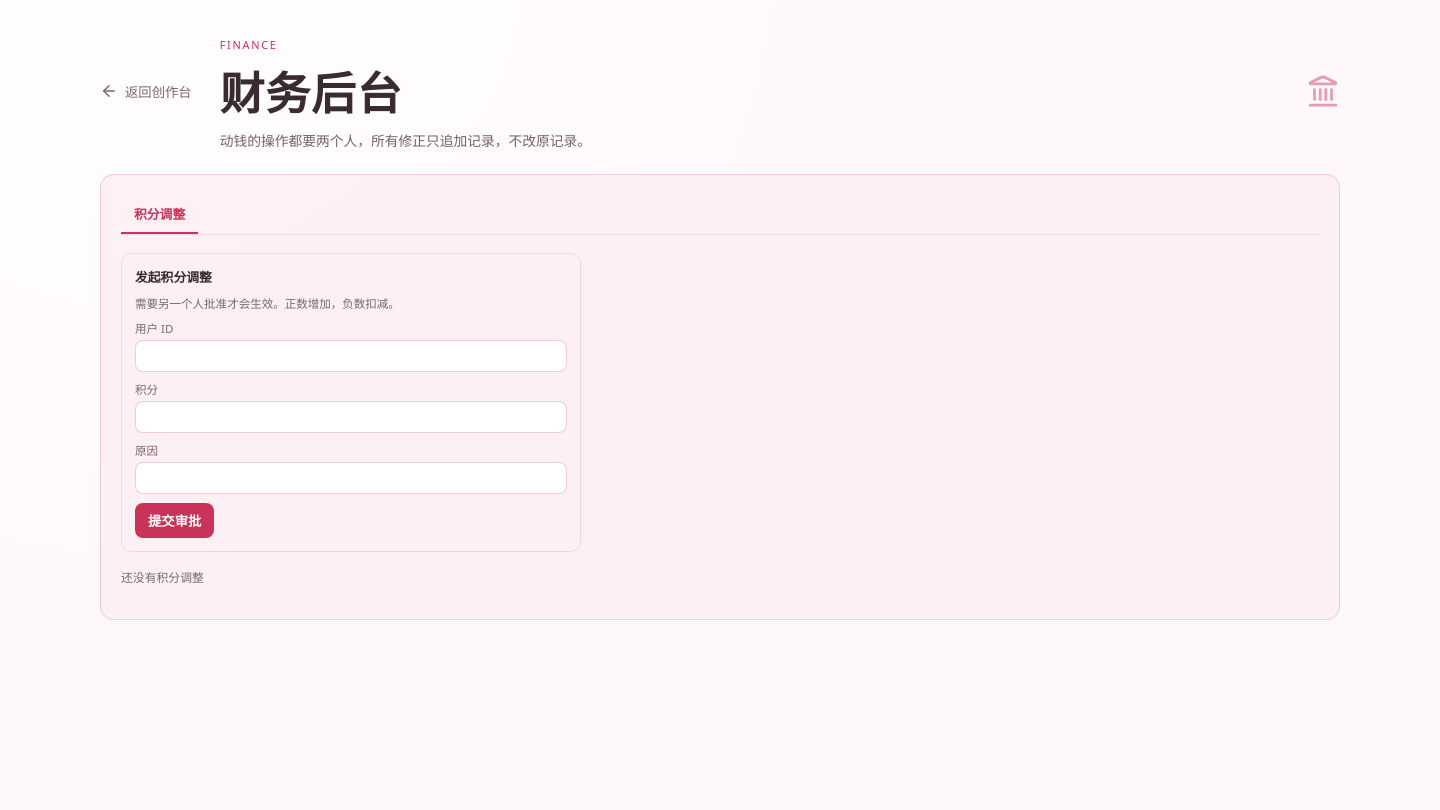
FinanceConsolePage › files a points adjustment once however often it is clicked, and keeps the form when filing fails
This screenshot has width=1440, height=810.
Expected: the text "还没有积分调整" is shown, [121,569,204,585]
In the field labelled "用户 ID": (351, 356) [135,340,567,372], type "nobody"
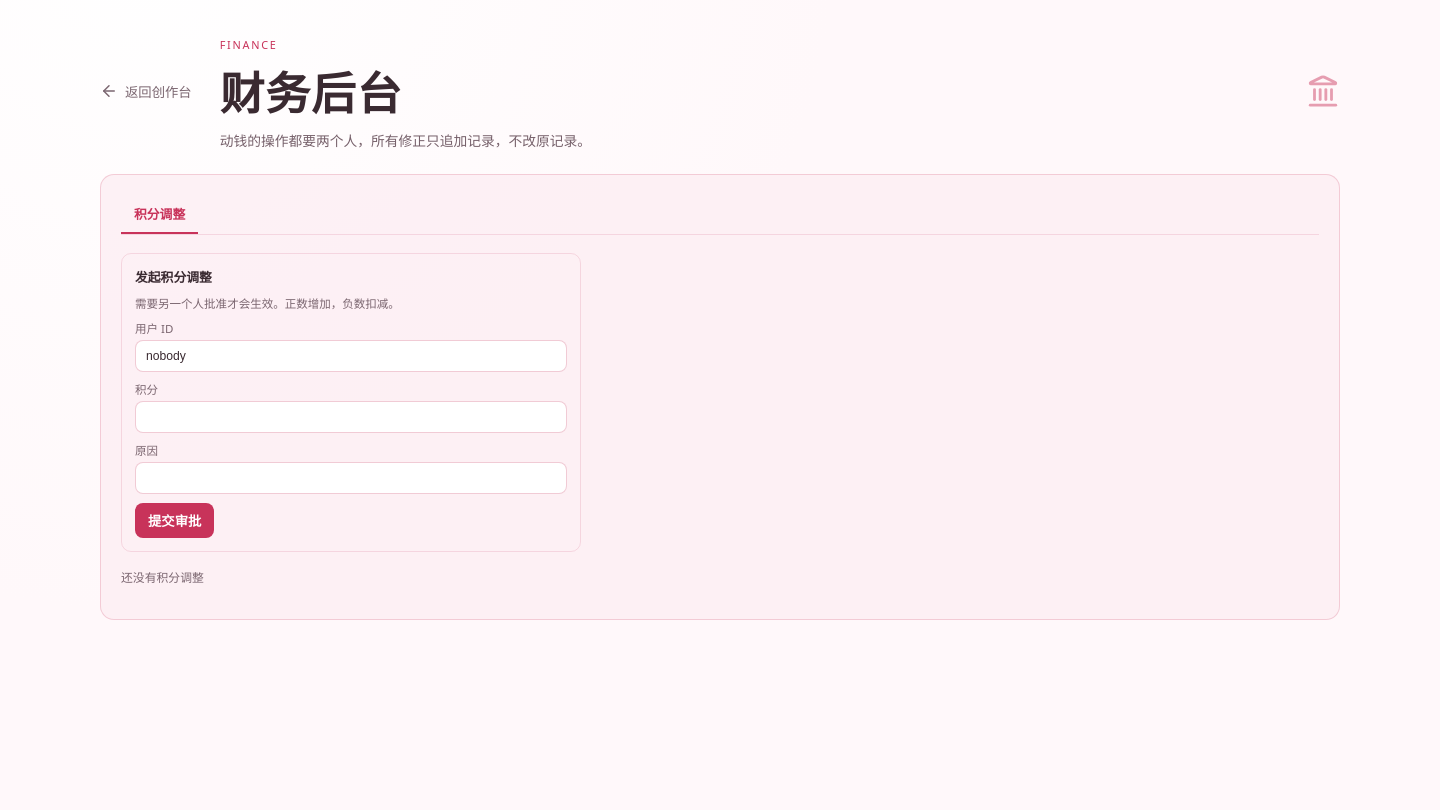
In the number field labelled "积分": (351, 417) [135,401,567,433], type "50"
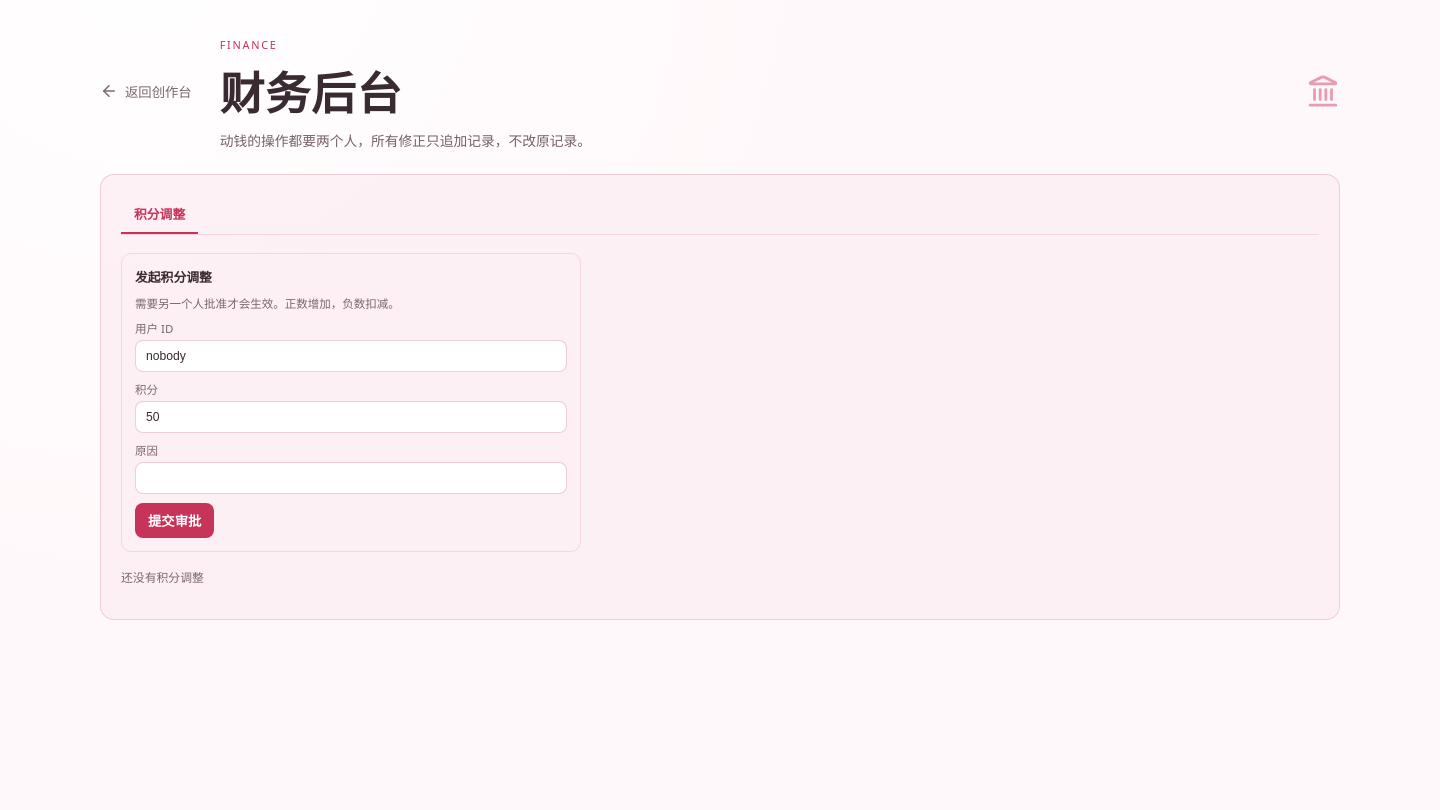
In the field labelled "原因": (351, 478) [135,462,567,494], type "补偿"
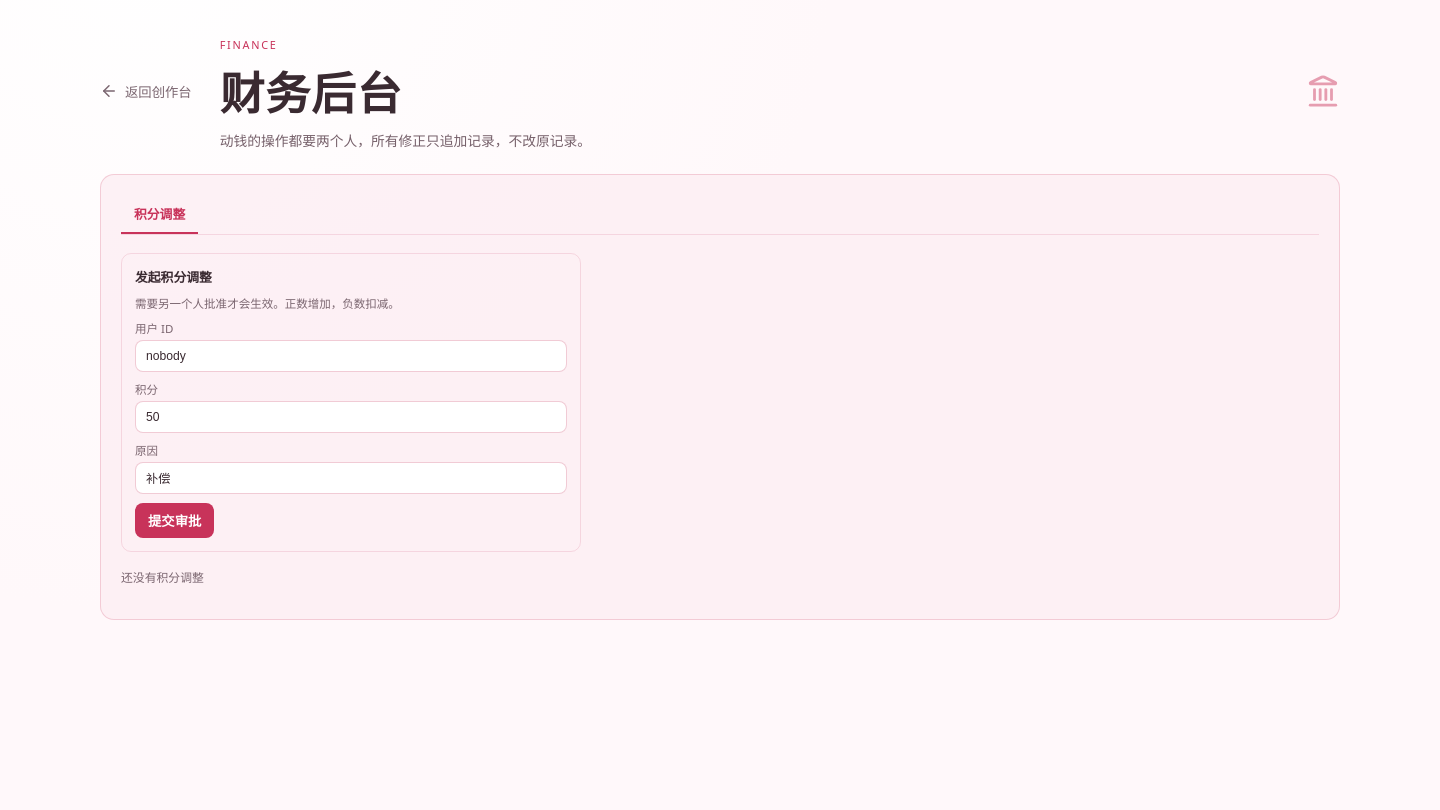
Click the button "提交审批": (175, 520) [135,503,214,538]
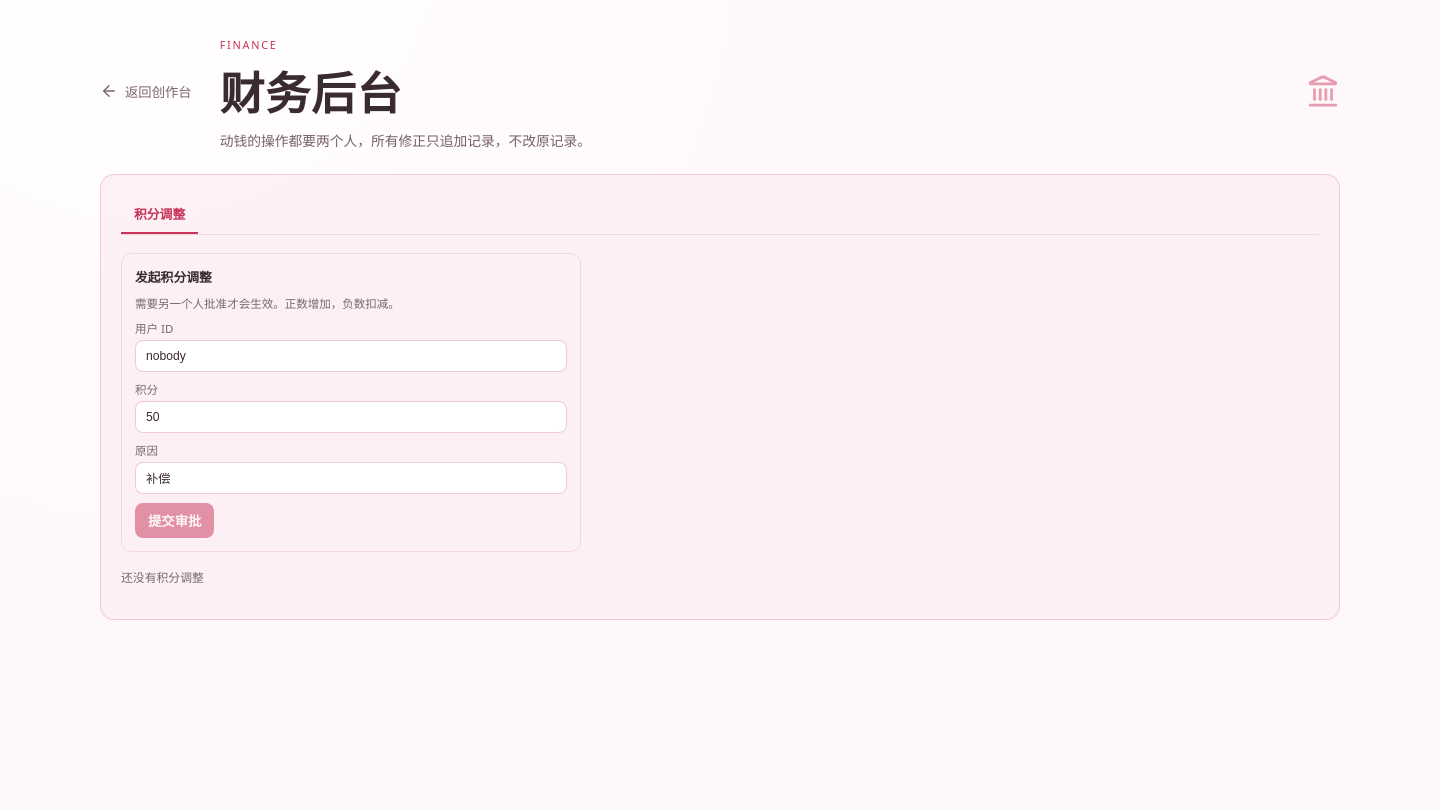
Expected: the button "提交审批" is disabled
Click the button "提交审批": (175, 520) [135,503,214,538]
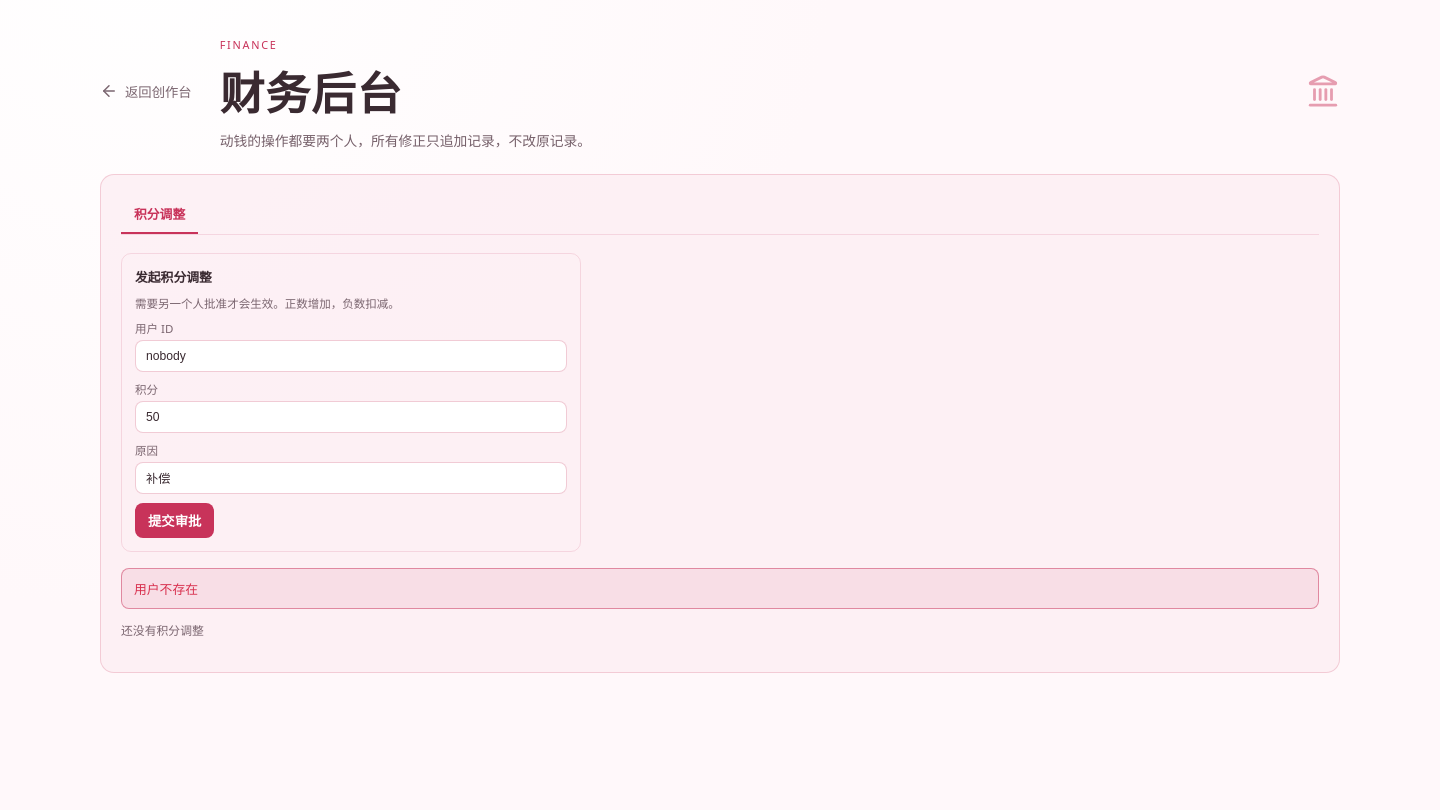
Expected: the message reads "用户不存在", [134,580,198,598]
Expected: the button "提交审批" is enabled, [135,503,214,538]
